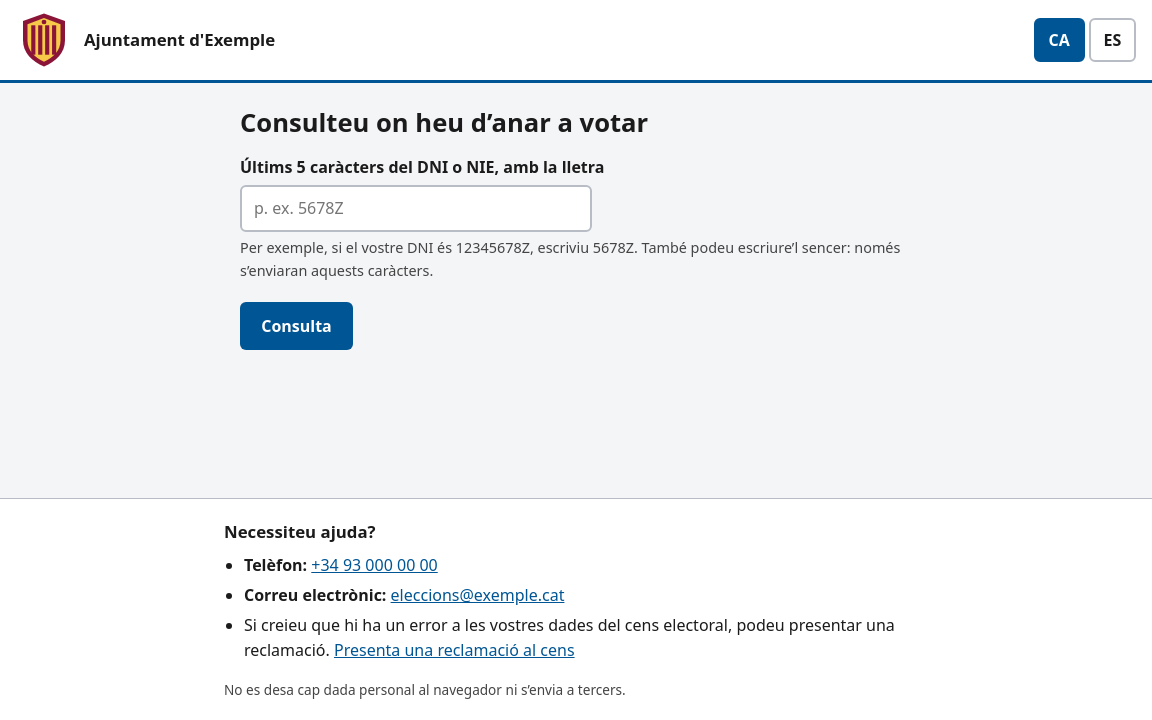
flux complet de consulta › 429 → missatge de límit de consultes
In the field labelled "Últims 5 caràcters del DNI o NIE, amb la lletra": (416, 209) [240,185,592,232], type "12345678Z"
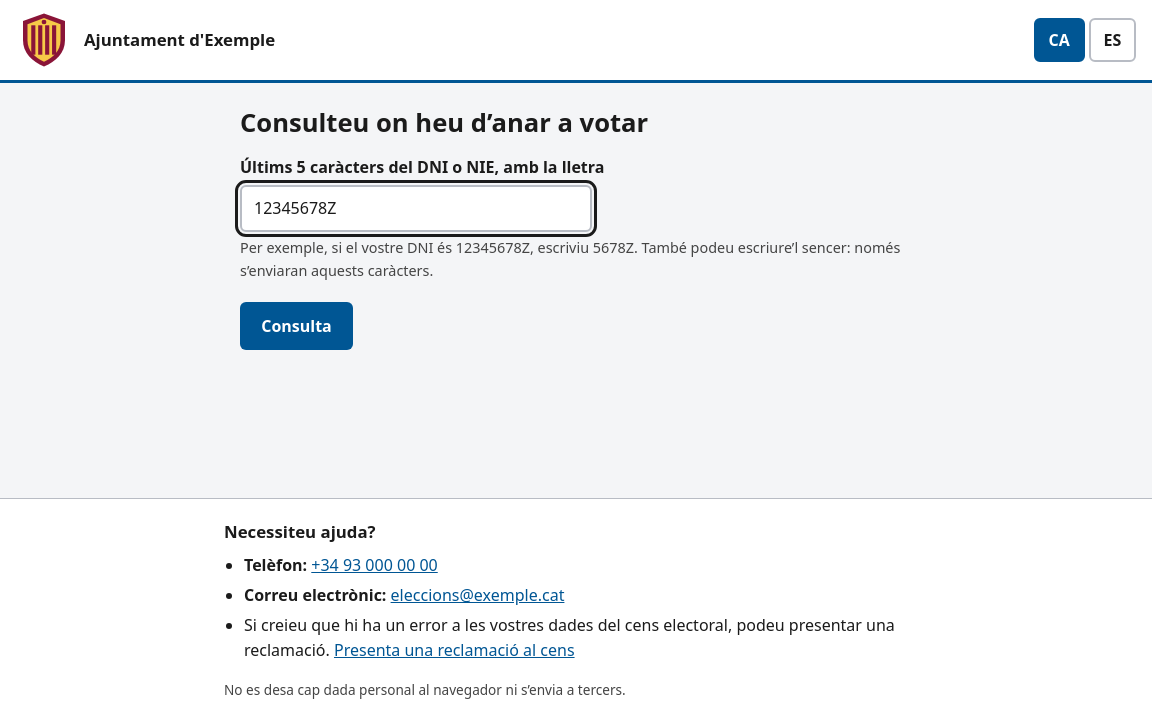
Click the button "Consulta": (296, 326) [240,302,353,350]
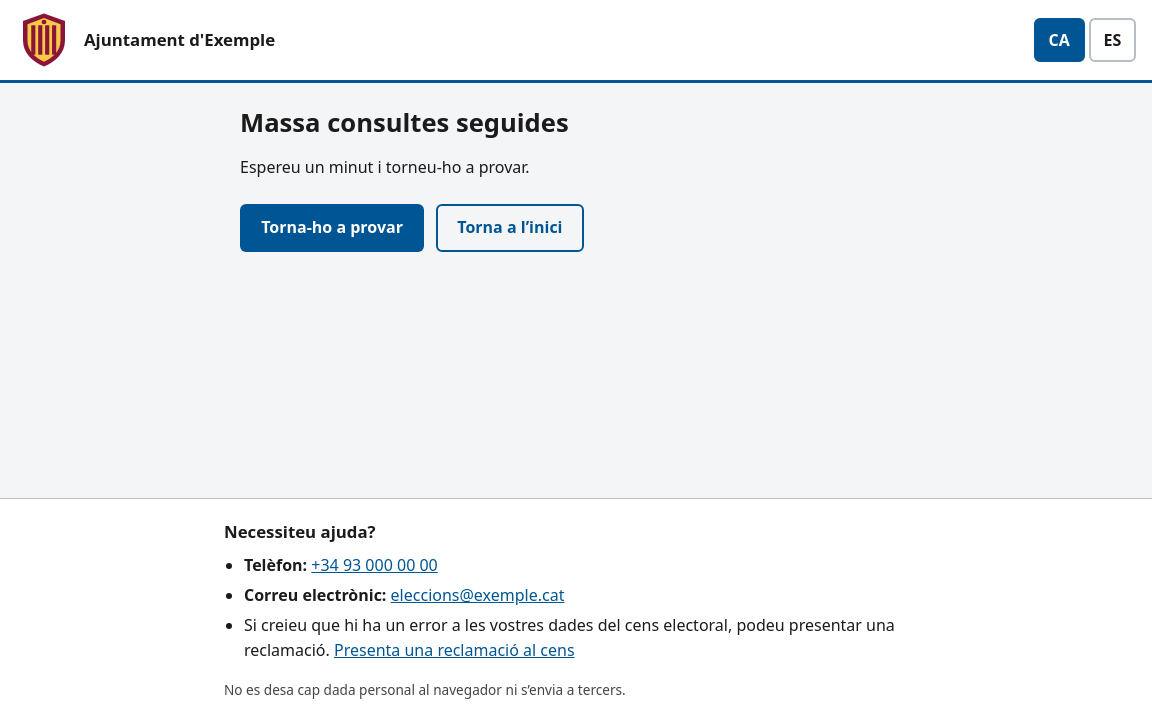
expect the heading "Massa consultes seguides" is shown: met, box [240,105,569,140]
expect the text "Espereu un minut i torneu-ho a provar." is shown: met, box [240,156,530,178]
